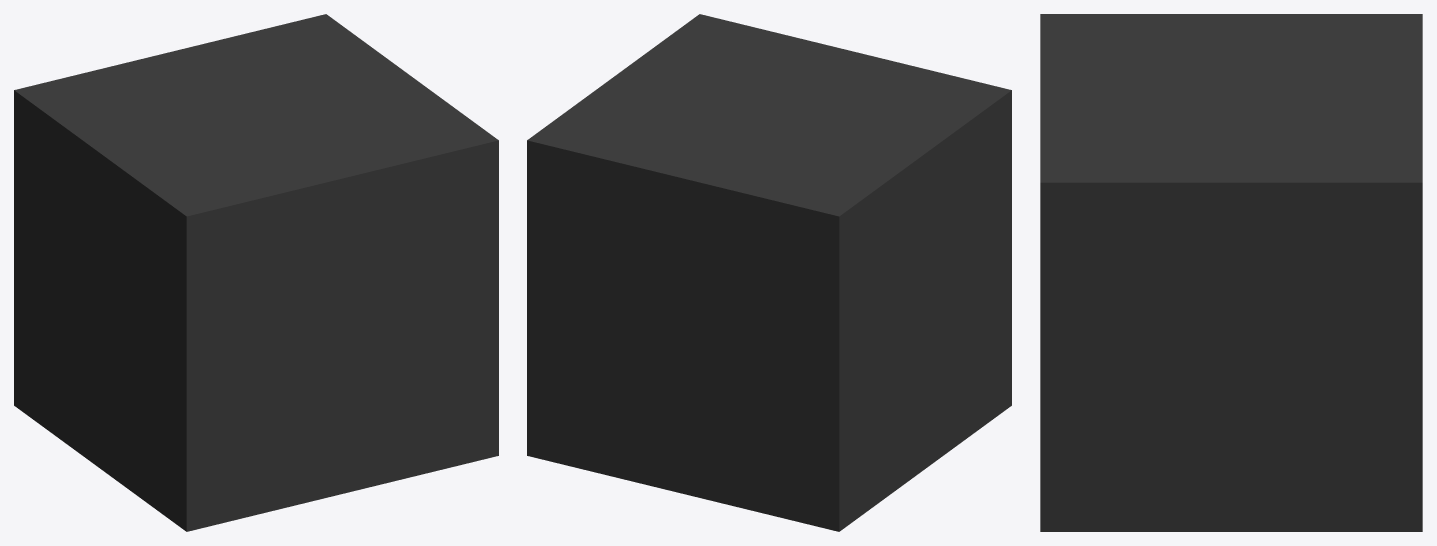
Rendered from Castle_Block_B_02.FBX.
3 views of the same model, side by side, from view 1: azimuth 30°, elevation 25°; view 2: azimuth 150°, elevation 25°; view 3: azimuth 270°, elevation 25° (orthographic). The views are drawn at different scales.
Parts seen in each view (by area): view 1: Castle_Block_B_02; view 2: Castle_Block_B_02; view 3: Castle_Block_B_02.
Boxes of the visible parts, bbox=[...] form: Castle_Block_B_02: bbox=[14, 14, 498, 531]; Castle_Block_B_02: bbox=[527, 14, 1011, 531]; Castle_Block_B_02: bbox=[1040, 14, 1422, 531].
Size of the model in its own units: 20.88 by 20.16 by 20.
